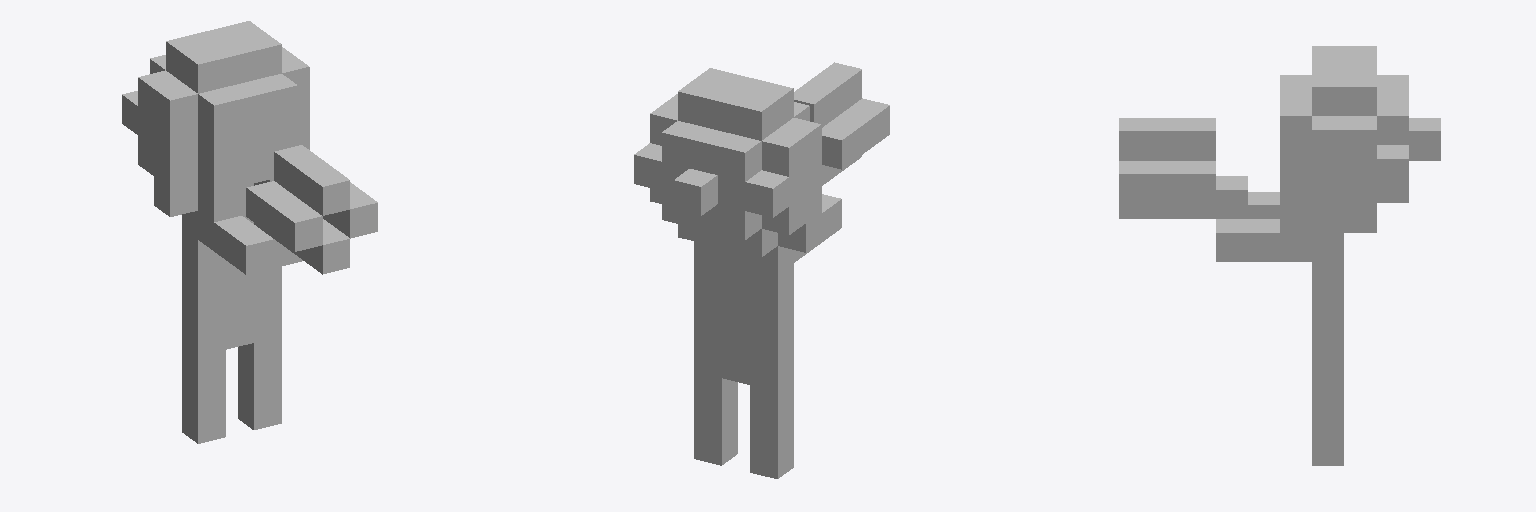
File: Snowwarrior2.obj
3 views of the same model, side by side, from view 1: azimuth 30°, elevation 25°; view 2: azimuth 150°, elevation 25°; view 3: azimuth 270°, elevation 25° (orthographic).
Bounding box in the file's own units: 5 × 13 × 10.